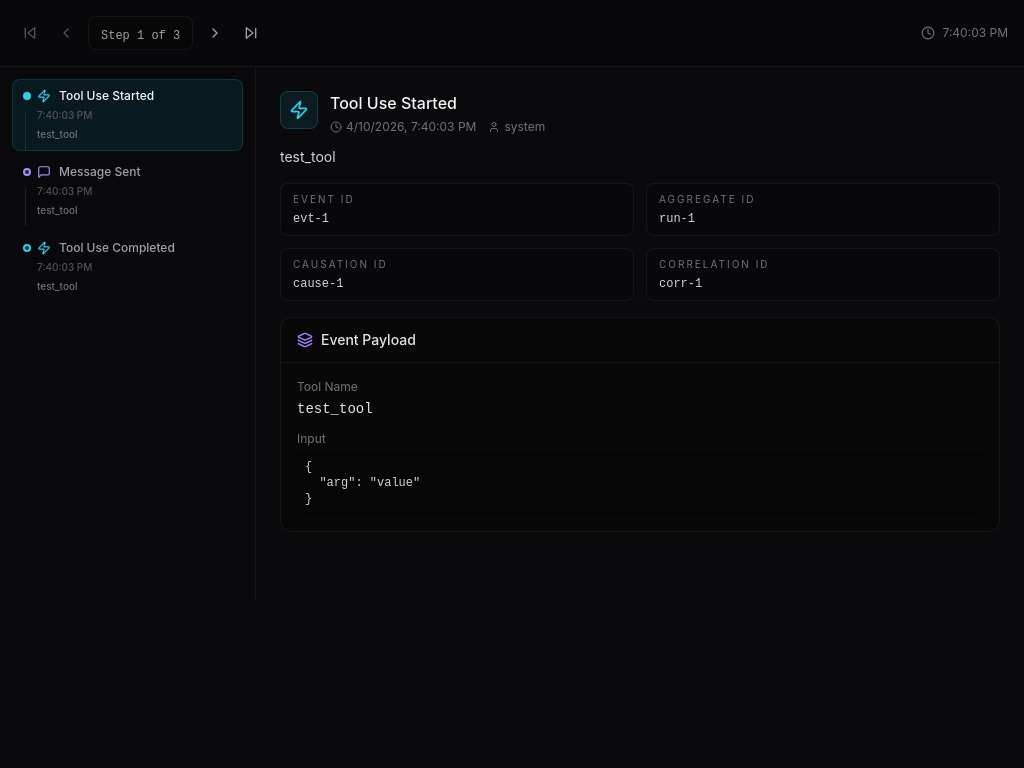
Test: RunReplayPanel › jumps to start
Expected: the text "Step 1 of 3" is shown, x1=101 y1=29 x2=180 y2=43
// Go to end
Step 1. Click the button titled "Jump to end" → x=251, y=33, box x1=237 y1=19 x2=265 y2=47
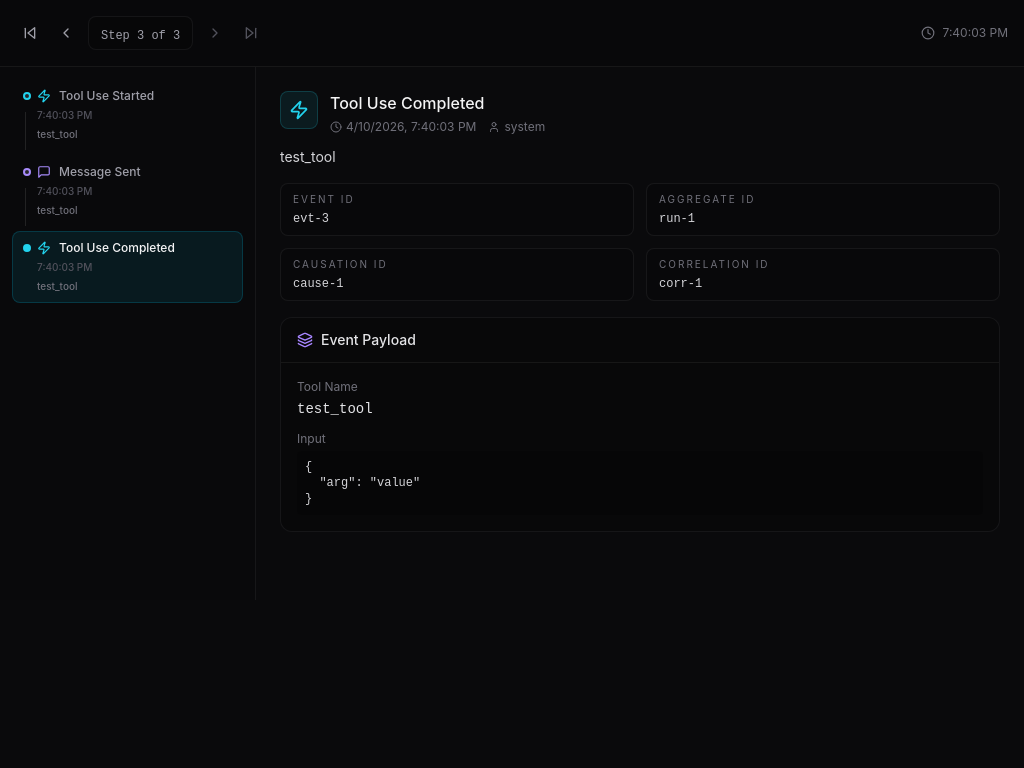
Expected: the text "Step 3 of 3" is shown, x1=101 y1=29 x2=180 y2=43
// Jump back to start
Step 2. Click the button titled "Jump to start" → x=30, y=33, box x1=16 y1=19 x2=44 y2=47
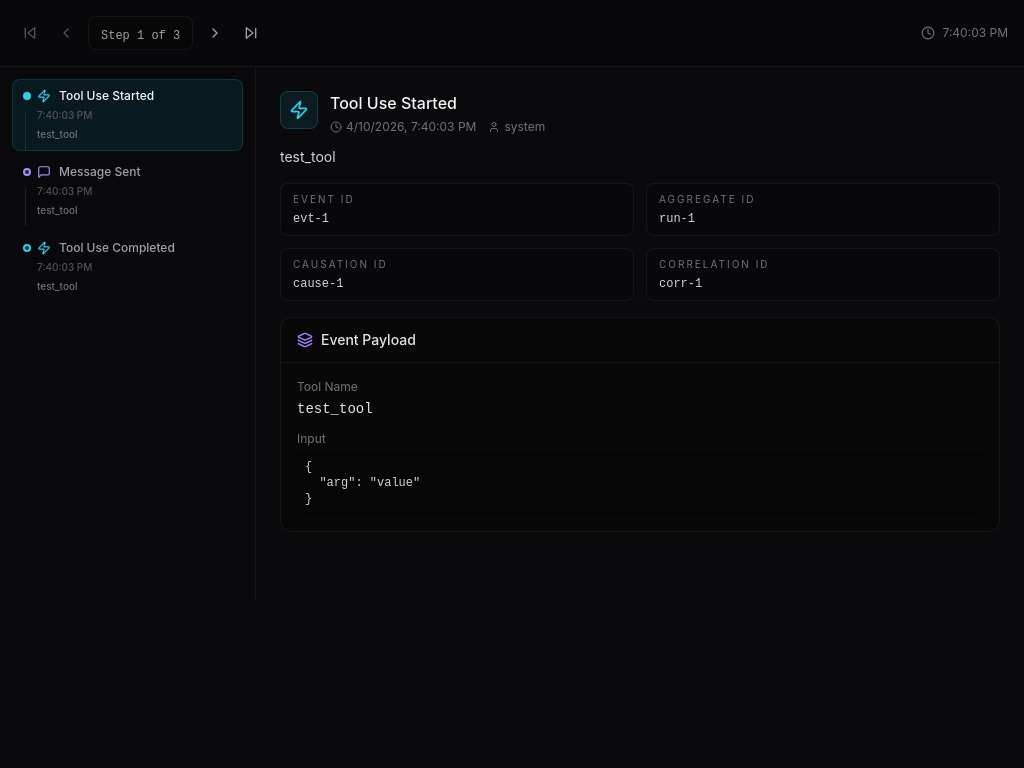
Expected: the text "Step 1 of 3" is shown, x1=101 y1=29 x2=180 y2=43
